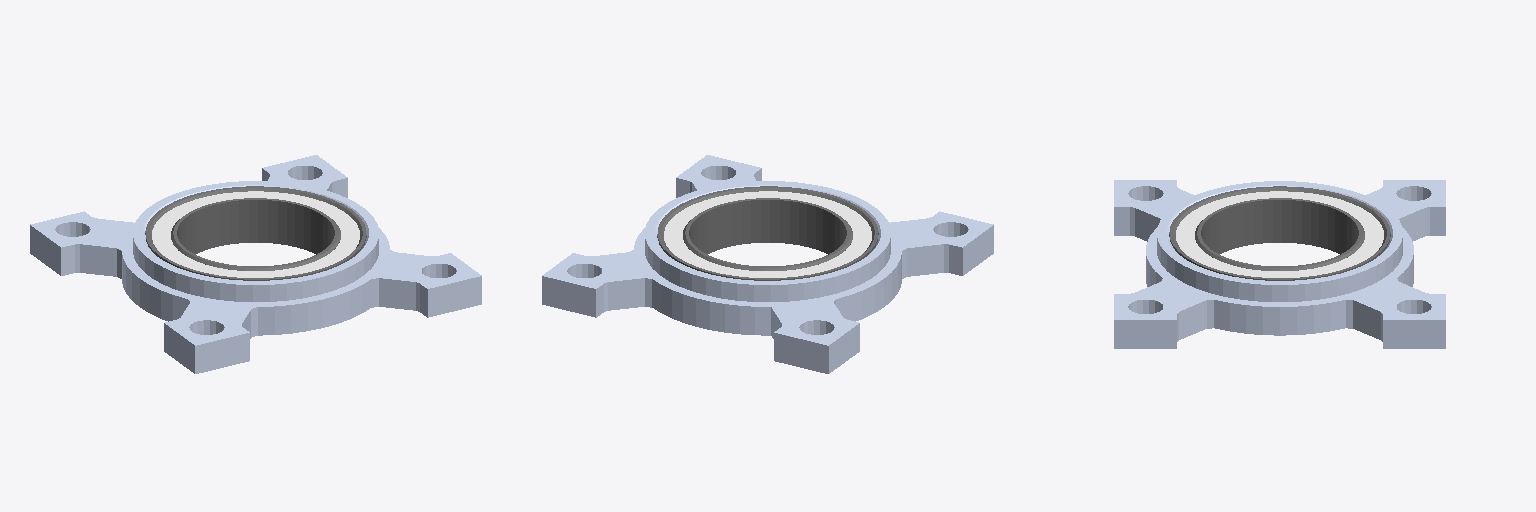
The model's file is ROB-12554.obj.
3 renders of one model, left to right at view 1: azimuth 30°, elevation 25°; view 2: azimuth 150°, elevation 25°; view 3: azimuth 270°, elevation 25°, orthographic.
Visible parts, largest first — view 1: mesh 2 Boss-Extrude5, mesh 1 RO, mesh 3 Chamfer3; view 2: mesh 2 Boss-Extrude5, mesh 1 RO, mesh 3 Chamfer3; view 3: mesh 2 Boss-Extrude5, mesh 1 RO, mesh 3 Chamfer3.
Part boxes in pixels (x1,y1,x2,y2): mesh 2 Boss-Extrude5: (30, 155, 481, 373); mesh 1 RO: (145, 186, 366, 280); mesh 3 Chamfer3: (152, 191, 359, 277); mesh 2 Boss-Extrude5: (542, 155, 993, 373); mesh 1 RO: (657, 186, 878, 280); mesh 3 Chamfer3: (664, 191, 871, 277); mesh 2 Boss-Extrude5: (1114, 180, 1445, 348); mesh 1 RO: (1169, 186, 1390, 280); mesh 3 Chamfer3: (1176, 191, 1383, 277).
Size of the model in its own units: 0.0333 by 0.0051 by 0.0333.